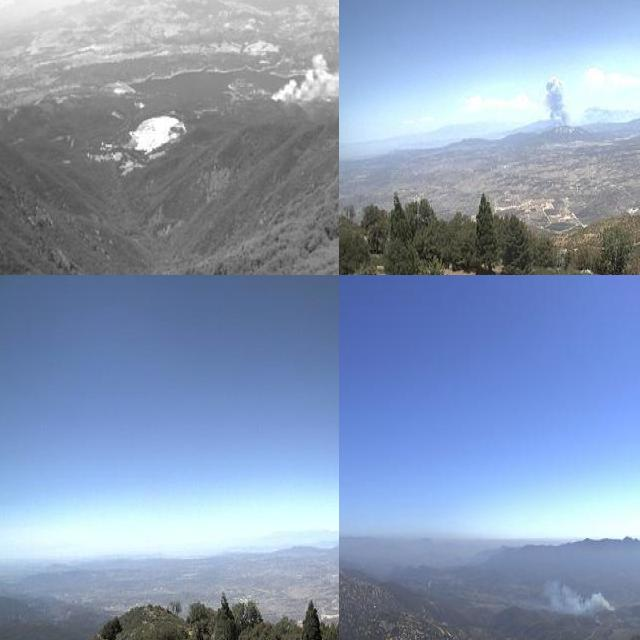smoke: (265, 0, 339, 115), (536, 571, 614, 617), (540, 79, 573, 134)
